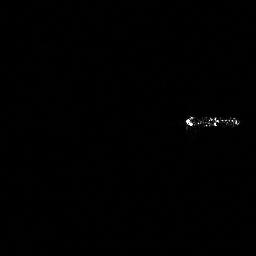ship: (184, 113, 242, 130)
